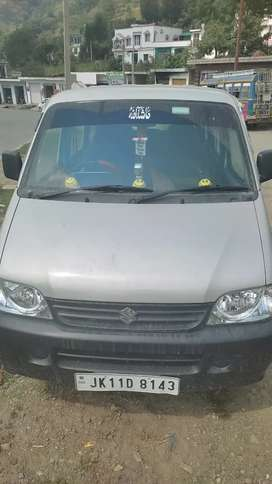JK11D8143: (75, 372, 179, 395)
